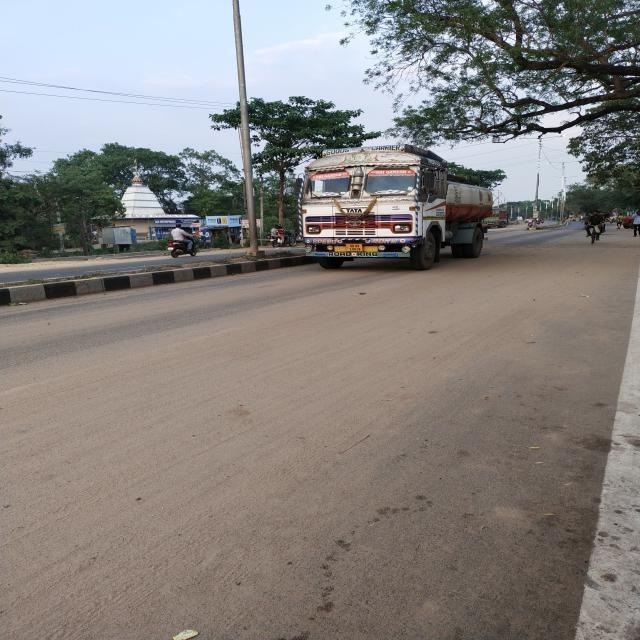Truck: (296, 147, 488, 272)
